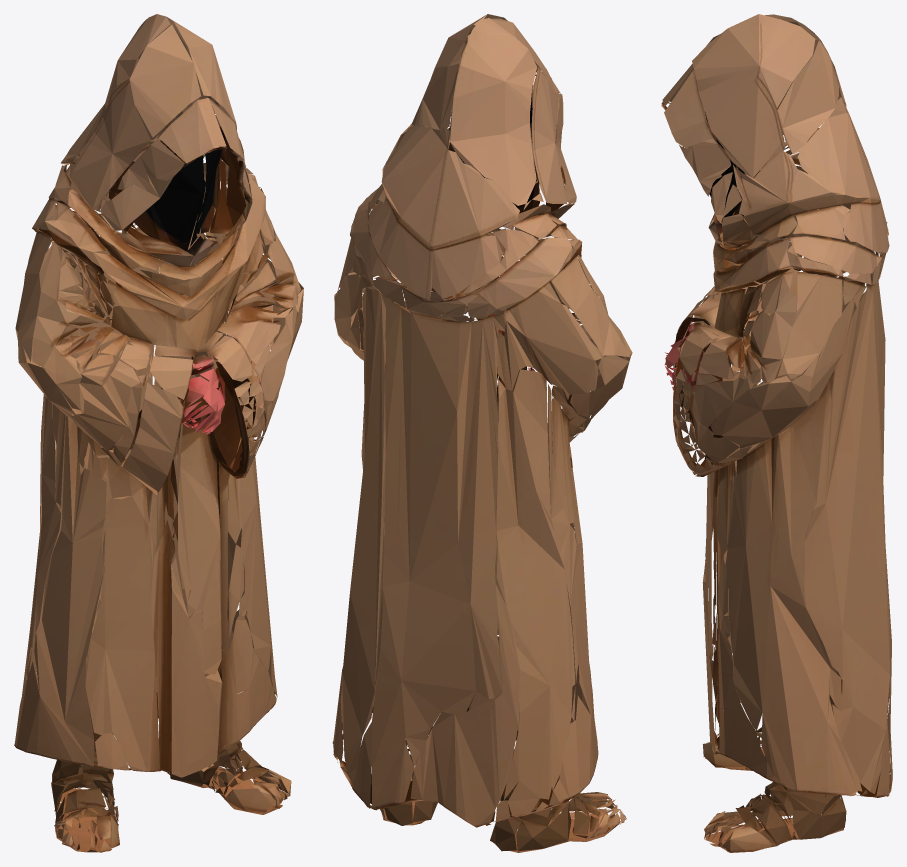
File: hooded-wanderer.glb
3 renders of one model, left to right at view 1: azimuth 30°, elevation 25°; view 2: azimuth 150°, elevation 25°; view 3: azimuth 270°, elevation 25°, orthographic.
Visible parts, largest first — view 1: material; view 2: material; view 3: material.
Part boxes in pixels (box(x1,y1,x2,y2)): material: box(14, 14, 303, 852); material: box(332, 14, 632, 852); material: box(661, 14, 892, 852).
Bounding box in the file's own units: 0.3408 × 0.92 × 0.2435.
1 material, 1 textured.
